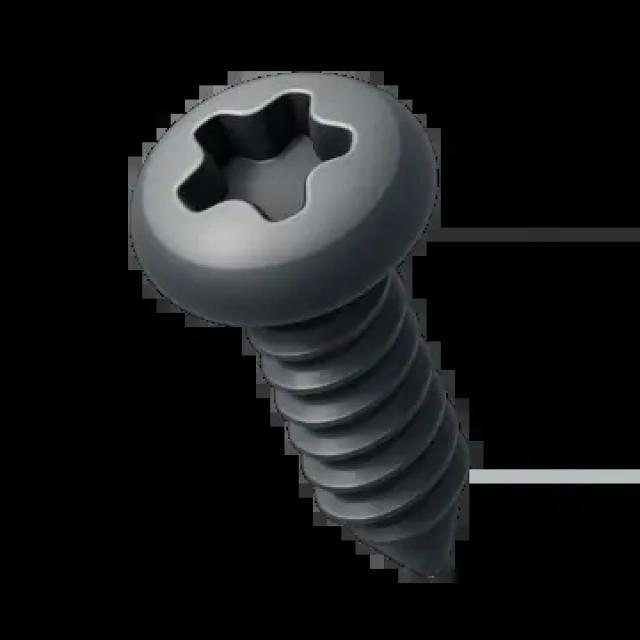torx: (126, 67, 443, 327)
